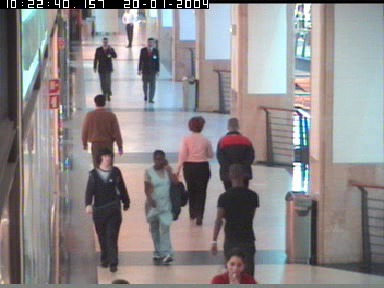person: (83, 147, 130, 271), (212, 163, 259, 283), (143, 150, 188, 264), (178, 116, 216, 225), (81, 94, 123, 162), (218, 119, 256, 189), (210, 248, 257, 283), (137, 38, 160, 104), (93, 38, 117, 100), (121, 8, 137, 47)
